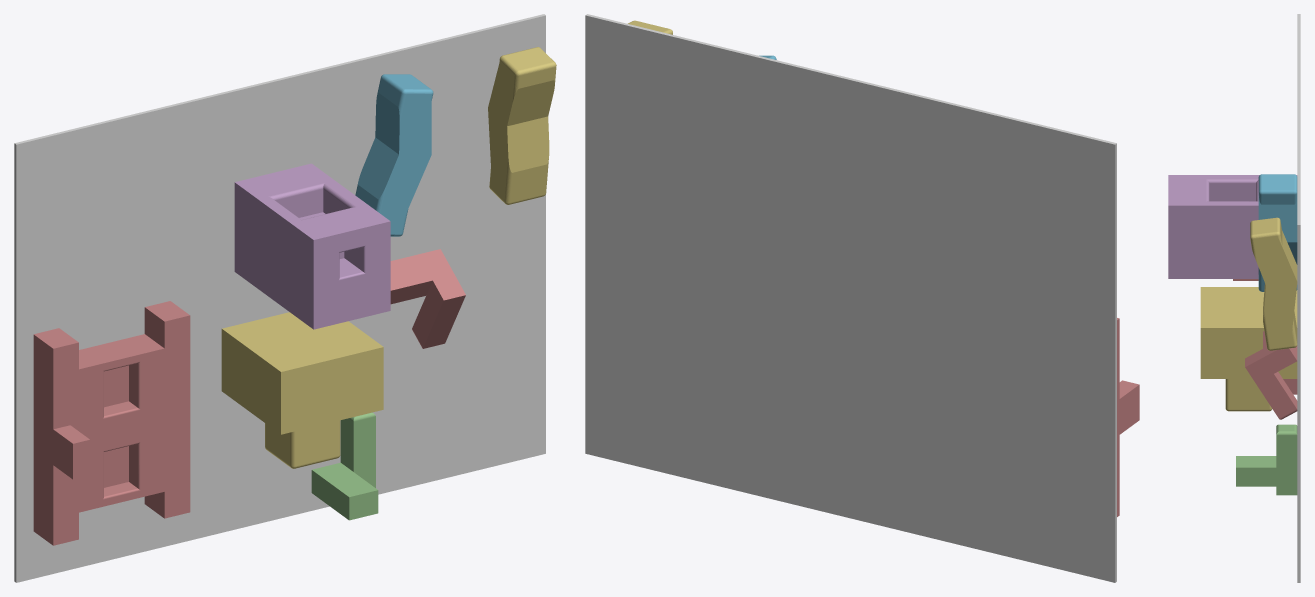
Rendered from pickup_layout.glb.
The picture shows the model from 3 angles, left to right: view 1: azimuth 30°, elevation 25°; view 2: azimuth 150°, elevation 25°; view 3: azimuth 270°, elevation 25°; orthographic projection. The views are drawn at different scales.
Parts seen in each view (by area): view 1: world, 0.obj, 3.obj, 6.obj, 1.obj, 2.obj, 4.obj, 5.obj; view 2: world, 0.obj; view 3: 3.obj, 6.obj, 1.obj, 4.obj, 2.obj, 5.obj, world, 0.obj.
Boxes of the visible parts, x1,y1,x2,y2 form: world: (14,14,545,582); 0.obj: (33,301,190,545); 3.obj: (234,163,390,329); 6.obj: (221,312,383,468); 1.obj: (488,47,556,204); 2.obj: (355,74,433,236); 4.obj: (311,412,378,520); 5.obj: (390,249,465,348); world: (585,14,1116,582); 0.obj: (1117,318,1139,516); 3.obj: (1168,175,1297,278); 6.obj: (1200,287,1297,411); 1.obj: (1250,217,1297,350); 4.obj: (1236,424,1297,495); 2.obj: (1258,174,1297,291); 5.obj: (1245,331,1297,419); world: (1297,14,1300,582); 0.obj: (1233,279,1297,394).
Size of the model in its own units: 30.95 by 24.47 by 8.2.
